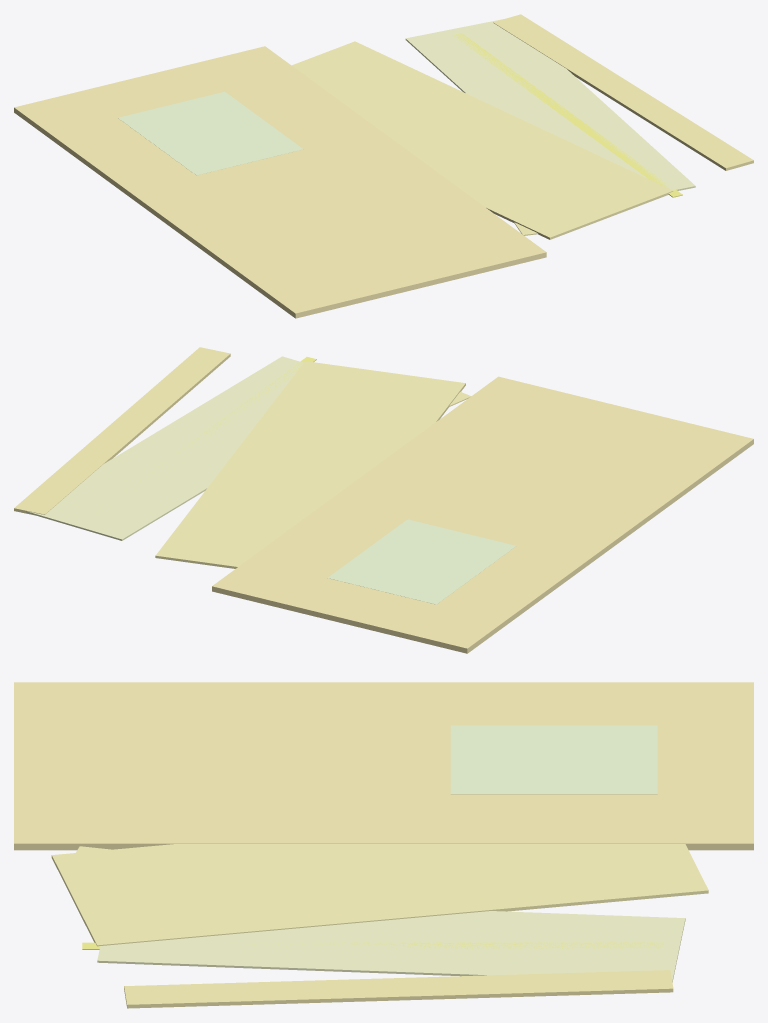
File: road_workzone_shoefly_shift.glb
3 renders of one model, top to bottom at view 1: azimuth 30°, elevation 25°; view 2: azimuth 150°, elevation 25°; view 3: azimuth 270°, elevation 25°, orthographic. The views are drawn at different scales.
Parts seen in each view (by area): view 1: travel_lane, shoefly_lane, temporary_overlay, plate_patch, gravel_shoulder, edge_right; view 2: travel_lane, shoefly_lane, temporary_overlay, plate_patch, gravel_shoulder; view 3: travel_lane, shoefly_lane, temporary_overlay, plate_patch, gravel_shoulder, edge_right.
Boxes of the visible parts, x1,y1,x2,y2 form: travel_lane: (14,46,546,318); shoefly_lane: (292,41,673,239); temporary_overlay: (405,19,695,190); plate_patch: (118,91,303,175); gravel_shoulder: (493,14,753,170); edge_right: (452,33,682,197); travel_lane: (212,376,753,653); shoefly_lane: (155,361,465,568); temporary_overlay: (26,356,303,540); plate_patch: (328,519,516,604); gravel_shoulder: (14,347,230,514); travel_lane: (14,682,753,850); shoefly_lane: (51,844,708,946); temporary_overlay: (97,911,685,982); plate_patch: (450,725,657,794); gravel_shoulder: (124,970,673,1008); edge_right: (82,942,663,949).
Bounding box in the file's own units: 4.11 × 0.041 × 4.
